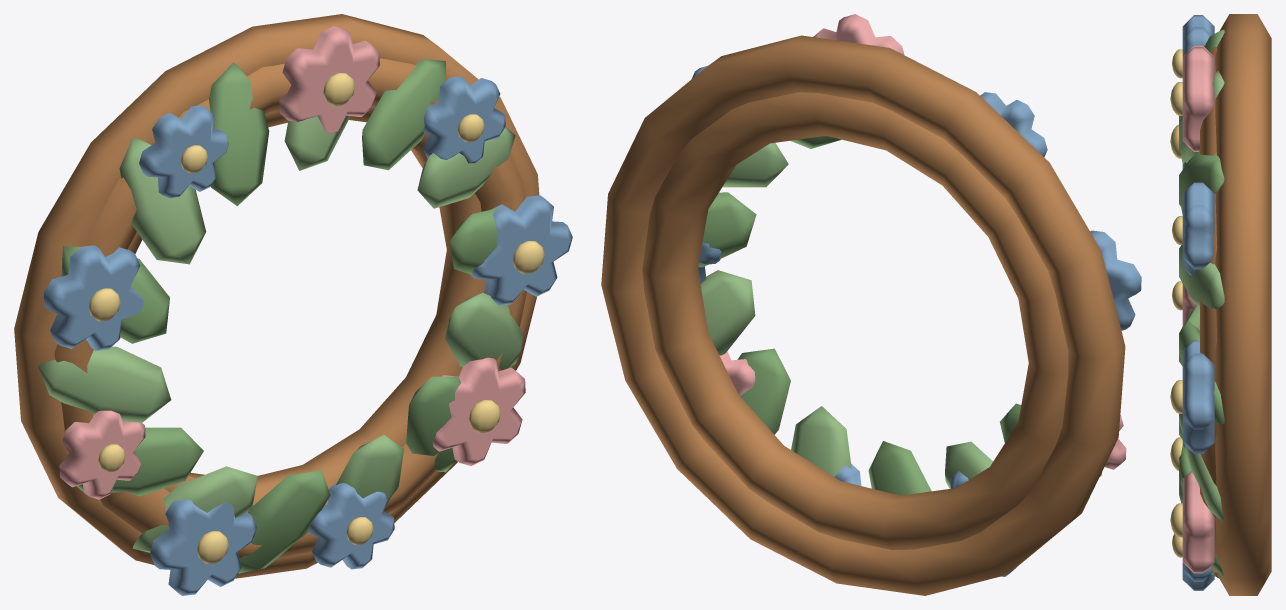
Rendered from cool_hyacinth_wreath.glb.
3 views of the same model, side by side, from view 1: azimuth 30°, elevation 25°; view 2: azimuth 150°, elevation 25°; view 3: azimuth 270°, elevation 25° (orthographic). The views are drawn at different scales.
Visible parts, largest first — view 1: cool_hyacinth_wreath_mesh; view 2: cool_hyacinth_wreath_mesh; view 3: cool_hyacinth_wreath_mesh.
Boxes of the visible parts, x1,y1,x2,y2 form: cool_hyacinth_wreath_mesh: [14, 14, 572, 595]; cool_hyacinth_wreath_mesh: [601, 14, 1141, 595]; cool_hyacinth_wreath_mesh: [1170, 14, 1271, 595].
Bounding box in the file's own units: 0.4607 × 0.4595 × 0.0791.
